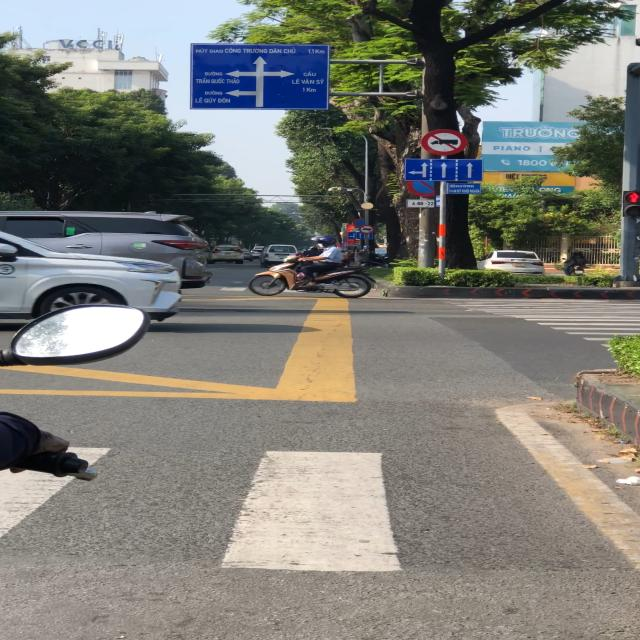Bien bao cam xe so-mi ro-mooc: (418, 124, 472, 157), (357, 224, 375, 235)
